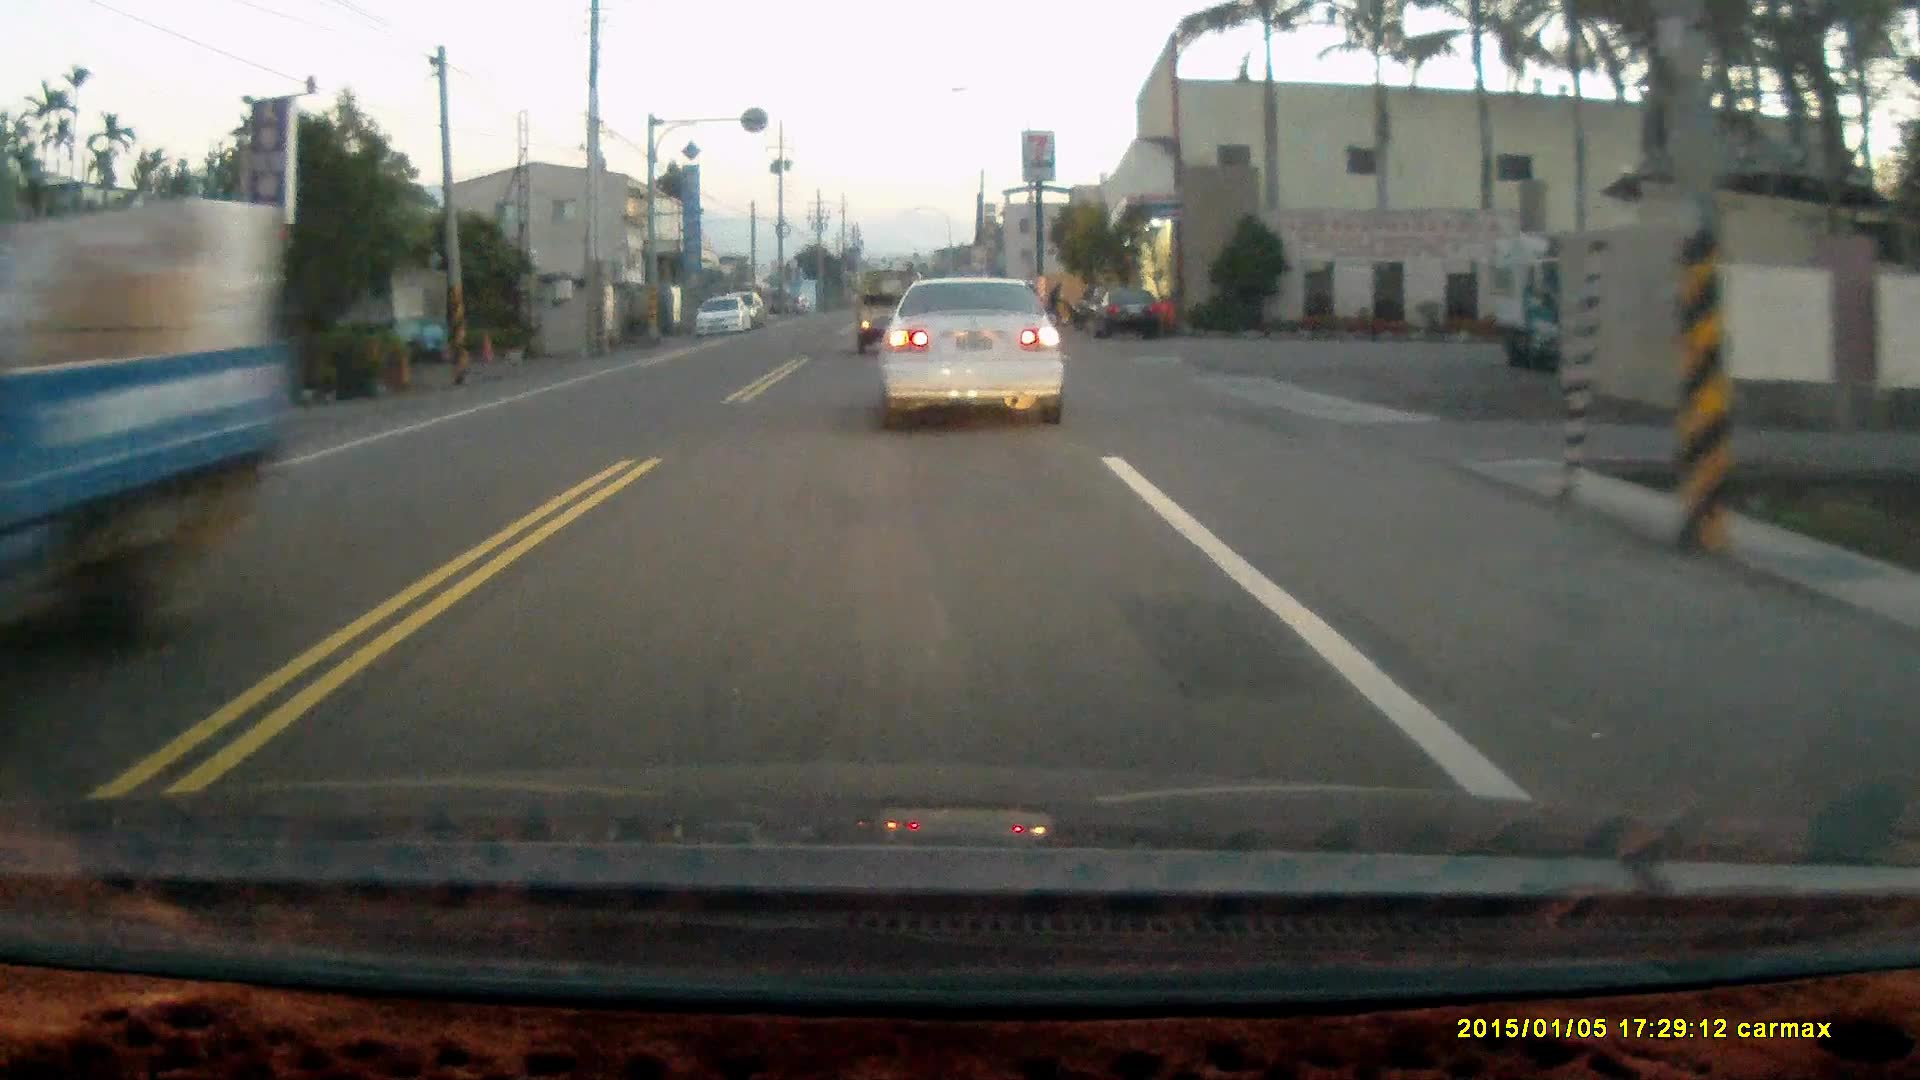rider: (1037, 278, 1082, 329)
vehicle: (1, 150, 301, 701), (886, 278, 1072, 435), (1482, 232, 1636, 378), (858, 274, 931, 363), (1087, 281, 1160, 339), (688, 287, 757, 340)
